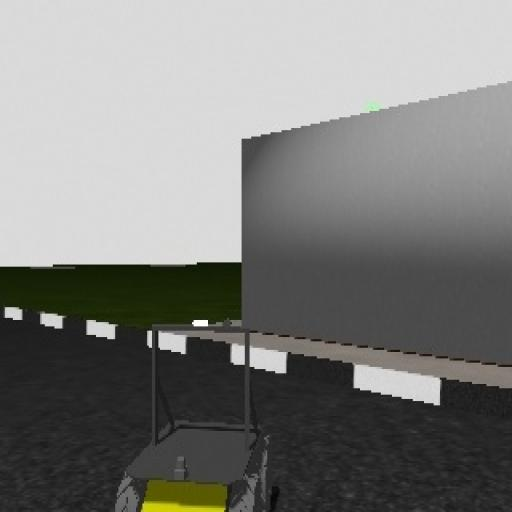huskya200: (125, 307, 278, 512)
